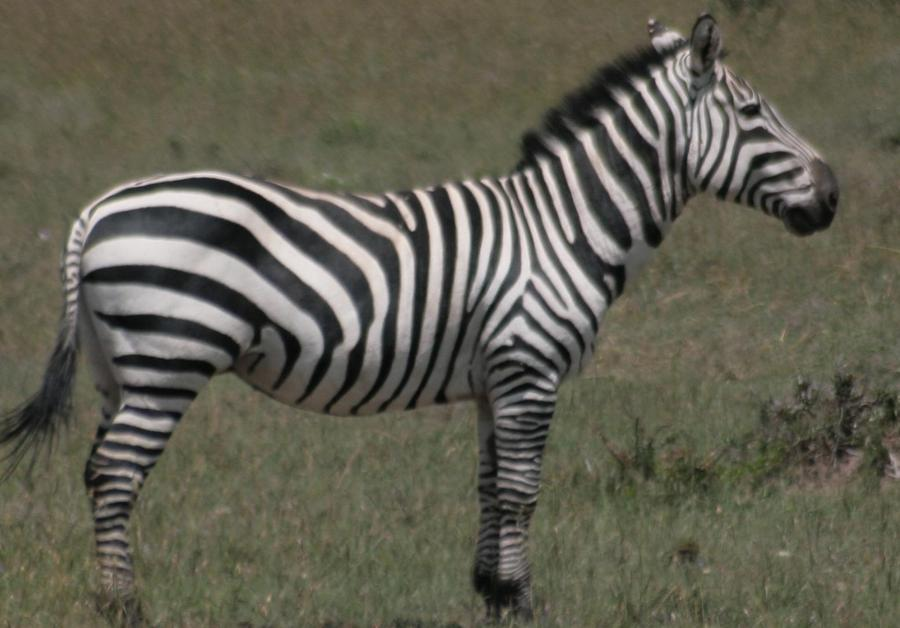zebra_plains: (68, 137, 606, 438)
